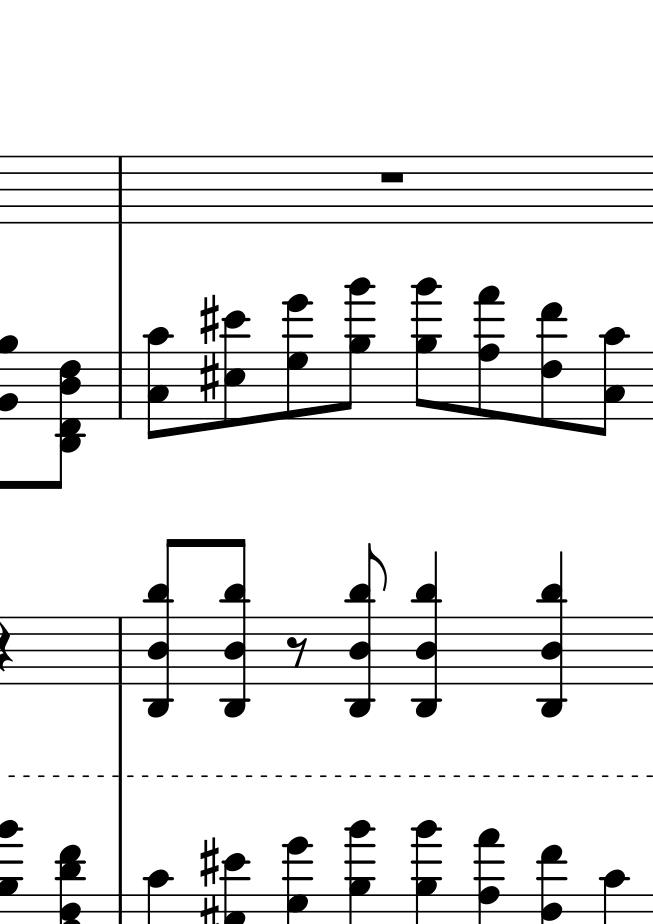4_th: (537, 549, 570, 719), (412, 548, 443, 719)
8_3_10: (142, 326, 173, 441), (595, 326, 627, 436)
8_4th: (344, 539, 389, 718), (219, 537, 250, 721), (45, 351, 84, 492)
8_5_12: (218, 309, 250, 429)
8_6_13: (537, 300, 565, 430)
8_7_14: (280, 292, 314, 421)
8_8_15: (473, 284, 502, 422)
8_9_16: (337, 276, 376, 421), (411, 277, 450, 422)
8_th: (142, 538, 188, 719)
Rests1: (376, 168, 408, 187)
Rests8: (284, 635, 310, 669)
Sharp: (196, 353, 222, 405), (197, 292, 221, 345), (198, 836, 220, 888)
Single_barline: (112, 352, 128, 417), (113, 156, 128, 222), (113, 618, 128, 684)
